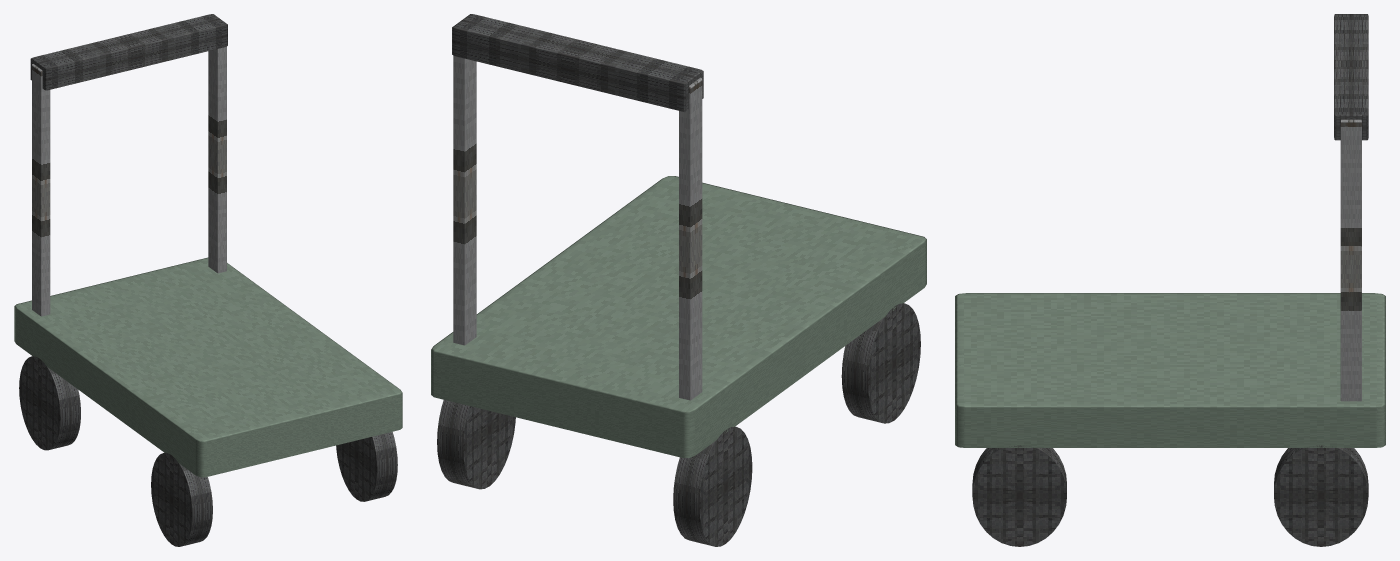
File: janitor-cart.glb
3 views of the same model, side by side, from view 1: azimuth 30°, elevation 25°; view 2: azimuth 150°, elevation 25°; view 3: azimuth 270°, elevation 25° (orthographic). The views are drawn at different scales.
Parts seen in each view (by area): view 1: deck, caster (×3), upright (×2), handle; view 2: deck, caster (×3), upright (×2), handle; view 3: deck, caster (×2), upright, handle.
Boxes of the visible parts, <box> form: deck: <box>14,257,402,477</box>; caster (×3): <box>19,356,397,546</box>; upright (×2): <box>32,46,226,316</box>; handle: <box>30,14,227,90</box>; deck: <box>431,176,926,457</box>; caster (×3): <box>437,303,920,546</box>; upright (×2): <box>453,55,702,400</box>; handle: <box>452,14,703,111</box>; deck: <box>955,293,1385,447</box>; caster (×2): <box>972,445,1368,546</box>; upright: <box>1340,119,1361,401</box>; handle: <box>1334,14,1368,140</box>.
Size of the model in its own units: 0.56 by 0.97 by 0.89.
3 materials, 3 textured.
